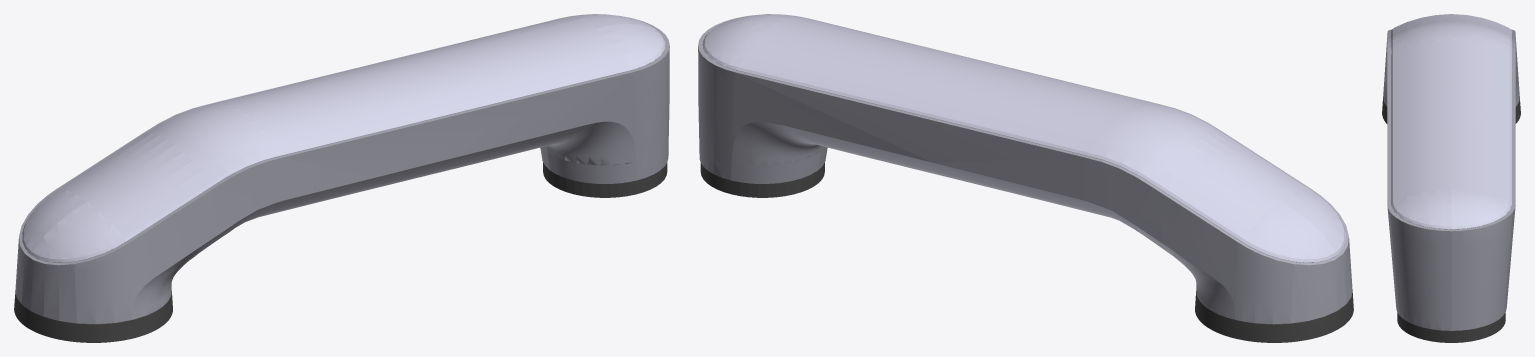
The picture shows the model from 3 angles, left to right: view 1: azimuth 30°, elevation 25°; view 2: azimuth 150°, elevation 25°; view 3: azimuth 270°, elevation 25°; orthographic projection. The views are drawn at different scales.
Parts seen in each view (by area): view 1: mesh; view 2: mesh; view 3: mesh.
Part boxes in pixels (bbox=[...]): mesh: bbox=[14, 14, 669, 342]; mesh: bbox=[698, 14, 1353, 342]; mesh: bbox=[1382, 14, 1520, 342].
Bounding box in the file's own units: 0.4251 × 0.0921 × 0.1016.
